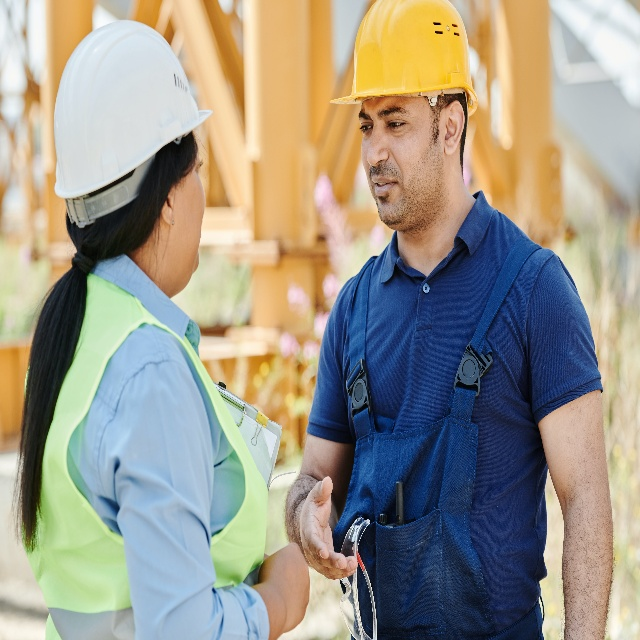Gafas: (337, 517, 378, 633)
Sin_guantes: (299, 472, 360, 582), (260, 542, 312, 624)
